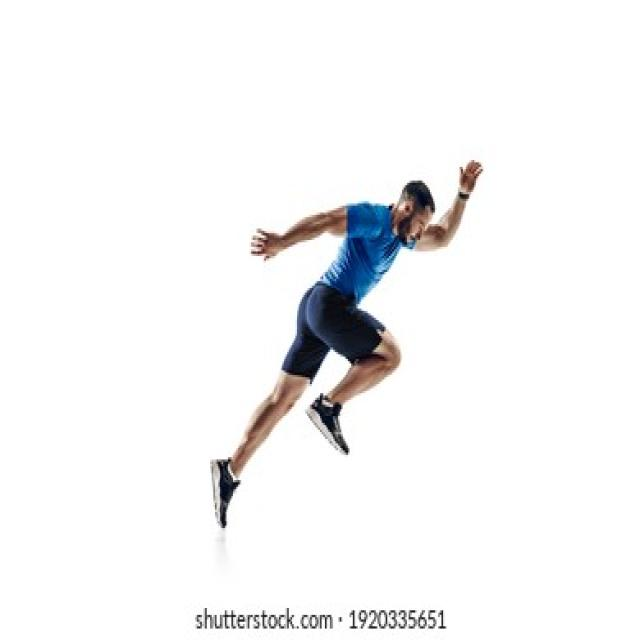running: (208, 154, 487, 533)
